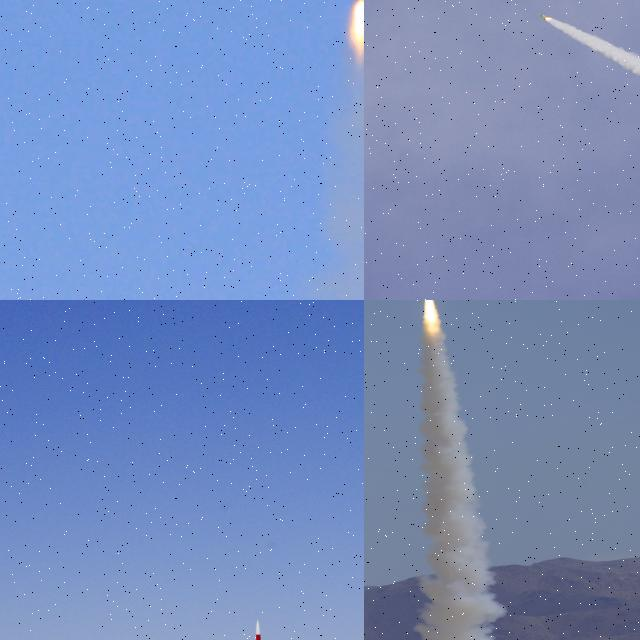Rocket: (249, 619, 271, 640), (540, 14, 550, 20)
